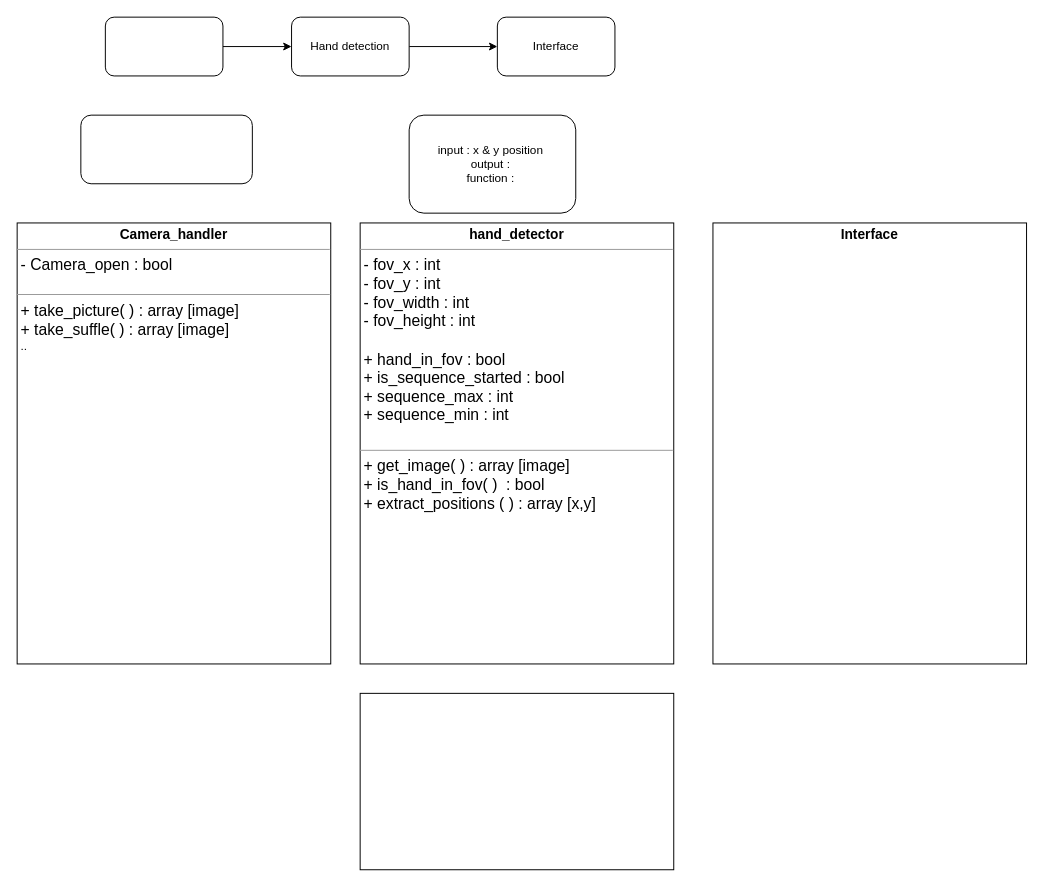
Image size: 1044x887. Some labels were removed from this diagram. The box of each missing label's shape, as (x1, y1, x2, y2) in pixels:
Camera: (104, 16, 223, 76)
hand_simulator Same using mediapipe: (359, 692, 674, 870)
input : output : function :: (80, 114, 252, 184)
